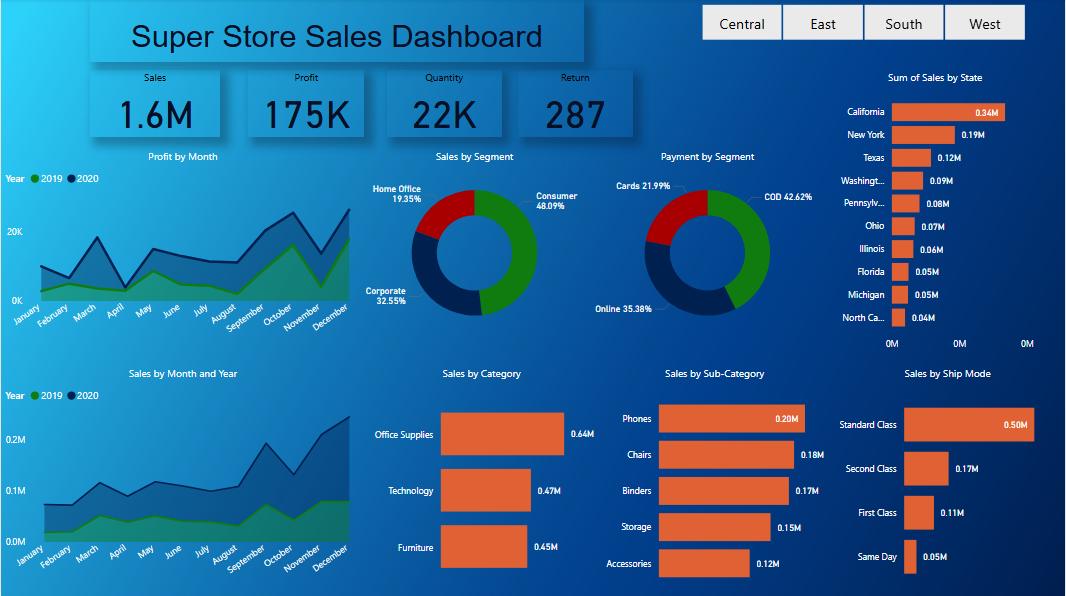

Layout of this report page (visuals, bound fields, positions):
{"tool":"powerbi","page":{"name":"Page 1","canvas":[1280,720],"ordinal":0},"visuals":[{"type":"clusteredBarChart","title":"Sales by Category","fields":{"Category":["inventory1.Category"],"Y":["Sum(inventory1.Sales)"]},"box":[437.7,441.8,280.8,278],"z":0},{"type":"clusteredBarChart","title":"Sales by Sub-Category","fields":{"Category":["inventory1.Sub-Category","inventory1.Category"],"Y":["Sum(inventory1.Sales)"]},"box":[718.5,441.8,280.8,278],"z":1000},{"type":"clusteredBarChart","title":"Sales by Ship Mode","fields":{"Y":["Sum(inventory1.Sales)"],"Category":["inventory1.Ship Mode"]},"box":[999.2,441.8,280.8,278],"z":2000},{"type":"stackedAreaChart","title":"Profit by Month","fields":{"Category":["inventory1.Order Date.Variation.Date Hierarchy.Month"],"Y":["Sum(inventory1.Profit)"],"Series":["inventory1.Order Date.Variation.Date Hierarchy.Year"]},"box":[0,180.3,437.7,234],"z":3000},{"type":"stackedAreaChart","title":"Sales by Month and Year","fields":{"Category":["inventory1.Order Date.Variation.Date Hierarchy.Month"],"Y":["Sum(inventory1.Sales)"],"Series":["inventory1.Order Date.Variation.Date Hierarchy.Year"]},"box":[0,441.8,437.7,262.9],"z":4000},{"type":"donutChart","title":"Sales by Segment","fields":{"Category":["inventory1.Segment"],"Y":["Sum(inventory1.Sales)"]},"box":[421.2,180.3,297.3,234],"z":5000},{"type":"donutChart","title":"Payment by Segment","fields":{"Y":["Sum(inventory1.Sales)"],"Category":["inventory1.Payment Mode"]},"box":[701.9,180.3,297.3,234],"z":6000},{"type":"slicer","fields":{"Values":["inventory1.Region"]},"box":[818.9,0,437.7,56.4],"z":7000},{"type":"textbox","box":[107.4,0,594.6,75.7],"z":8000},{"type":"card","title":"Sales","fields":{"Values":["Sum(inventory1.Sales)"]},"box":[107.4,85.3,156.9,81.2],"z":9000},{"type":"card","title":"Profit","fields":{"Values":["Sum(inventory1.Profit)"]},"box":[297.3,85.3,140.4,81.2],"z":9001},{"type":"card","title":"Quantity","fields":{"Values":["Sum(inventory1.Quantity)"]},"box":[465.2,85.3,137.6,81.2],"z":9002},{"type":"card","title":"Return","fields":{"Values":["Sum(inventory1.Returns)"]},"box":[622.1,85.3,137.6,81.2],"z":9003},{"type":"clusteredBarChart","fields":{"Category":["inventory1.State"],"Y":["Sum(inventory1.Sales)"]},"box":[993.7,85.3,262.9,348.2],"z":9004}]}

Visuals, with their boxes in screenshot pixels (x1, y1, x2, y2), scaled from the page's 1280x720 canvas onto the 1066x596 screenshot:
"Sales by Category" clusteredBarChart: 365 366 598 595
"Sales by Sub-Category" clusteredBarChart: 598 366 832 595
"Sales by Ship Mode" clusteredBarChart: 832 366 1065 595
"Profit by Month" stackedAreaChart: 0 149 365 343
"Sales by Month and Year" stackedAreaChart: 0 366 365 583
"Sales by Segment" donutChart: 351 149 598 343
"Payment by Segment" donutChart: 585 149 832 343
slicer - inventory1.Region: 682 0 1047 47
textbox: 89 0 585 63
"Sales" card: 89 71 220 138
"Profit" card: 248 71 365 138
"Quantity" card: 387 71 502 138
"Return" card: 518 71 633 138
clusteredBarChart - inventory1.State x Sum(inventory1.Sales): 828 71 1047 359
